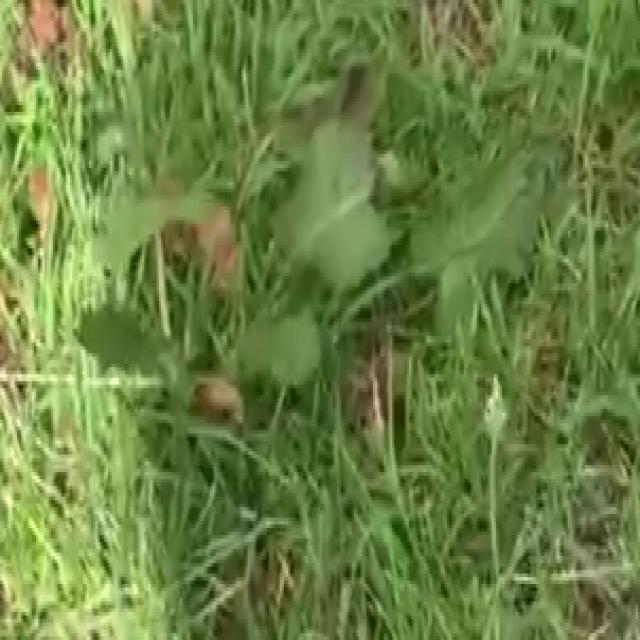organic waste: (70, 91, 578, 532)
